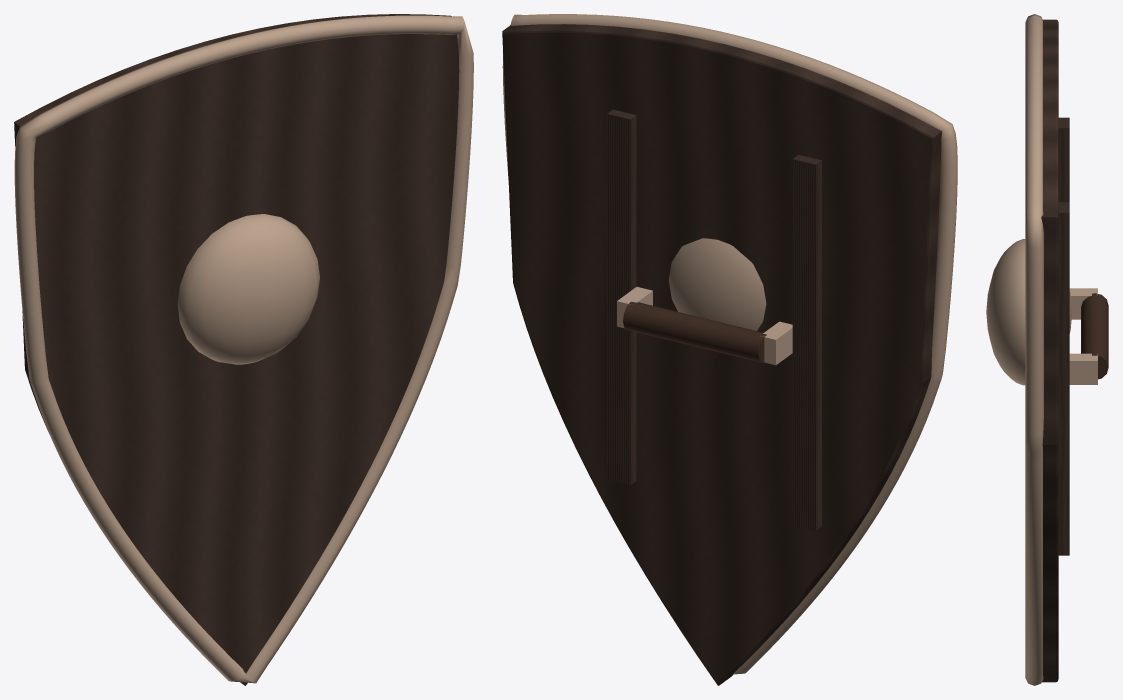
Rendered from corealm_shield_4.glb.
3 renders of one model, left to right at view 1: azimuth 30°, elevation 25°; view 2: azimuth 150°, elevation 25°; view 3: azimuth 270°, elevation 25°, orthographic. The views are drawn at different scales.
Parts seen in each view (by area): view 1: corealm-weapon-wood, corealm-weapon-metal; view 2: corealm-weapon-wood, corealm-weapon-metal, corealm-weapon-leather; view 3: corealm-weapon-metal, corealm-weapon-wood, corealm-weapon-leather.
Boxes of the visible parts, left/top/right/bottom form: corealm-weapon-wood: left=14, top=14, right=459, bottom=685; corealm-weapon-metal: left=14, top=15, right=473, bottom=683; corealm-weapon-wood: left=502, top=24, right=942, bottom=685; corealm-weapon-metal: left=502, top=14, right=957, bottom=674; corealm-weapon-leather: left=623, top=301, right=766, bottom=362; corealm-weapon-metal: left=986, top=14, right=1097, bottom=685; corealm-weapon-wood: left=1041, top=19, right=1069, bottom=682; corealm-weapon-leather: left=1081, top=293, right=1108, bottom=379.
Bounding box in the file's own units: 0.6348 × 0.8612 × 0.1587.
Materials: 3 (2 with a texture image).
